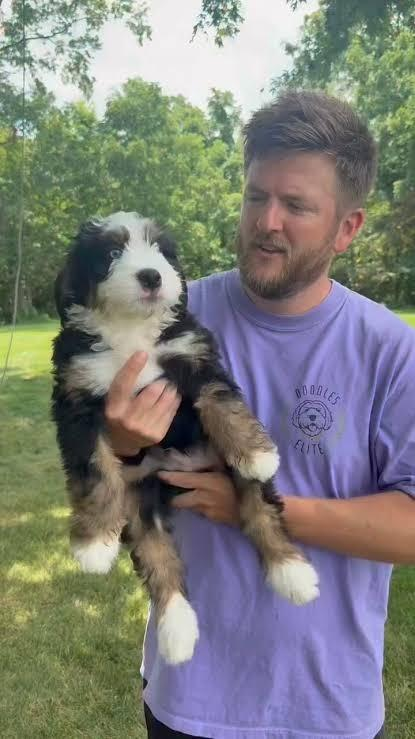non-dog: (99, 84, 415, 739)
puppy-dog: (48, 209, 323, 665)
